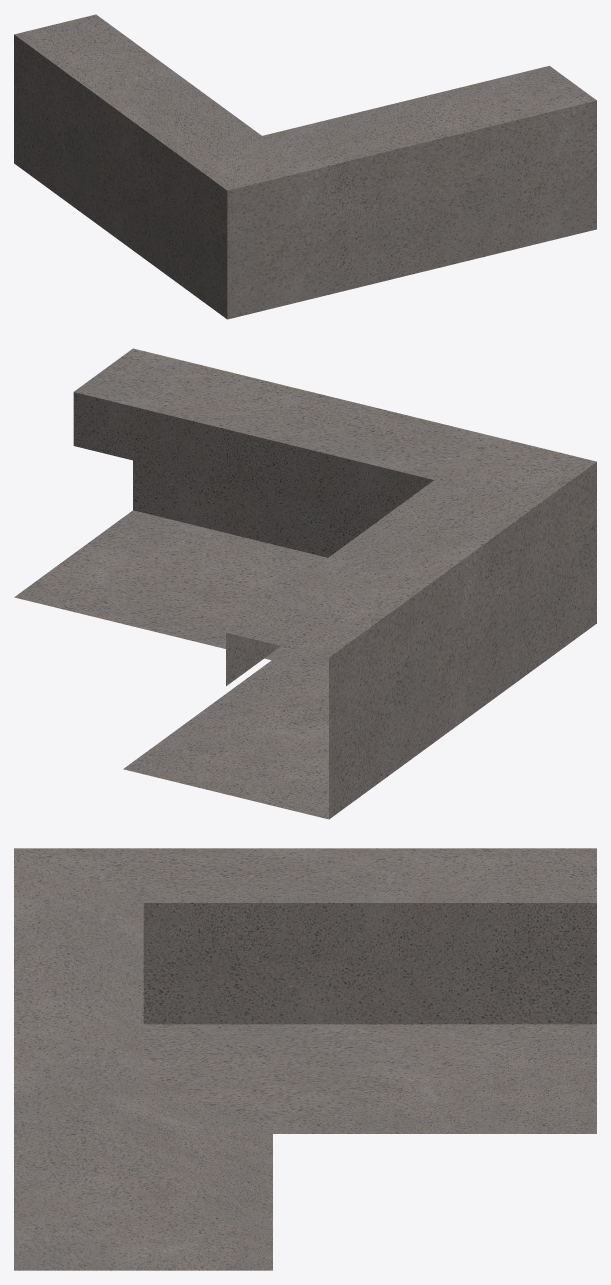
Rendered from window_002_006_11.gltf.
3 views of the same model, one above another, from view 1: azimuth 30°, elevation 25°; view 2: azimuth 150°, elevation 25°; view 3: azimuth 270°, elevation 25° (orthographic). The views are drawn at different scales.
Visible parts, largest first — view 1: Window_002.006_11; view 2: Window_002.006_11; view 3: Window_002.006_11.
Part boxes in pixels (box(x1,y1,x2,y2)): Window_002.006_11: box(14, 14, 596, 319); Window_002.006_11: box(14, 348, 596, 819); Window_002.006_11: box(14, 848, 596, 1270).
Bounding box in the file's own units: 0.9 × 0.3 × 0.9.
Materials: 1 (1 with a texture image).
